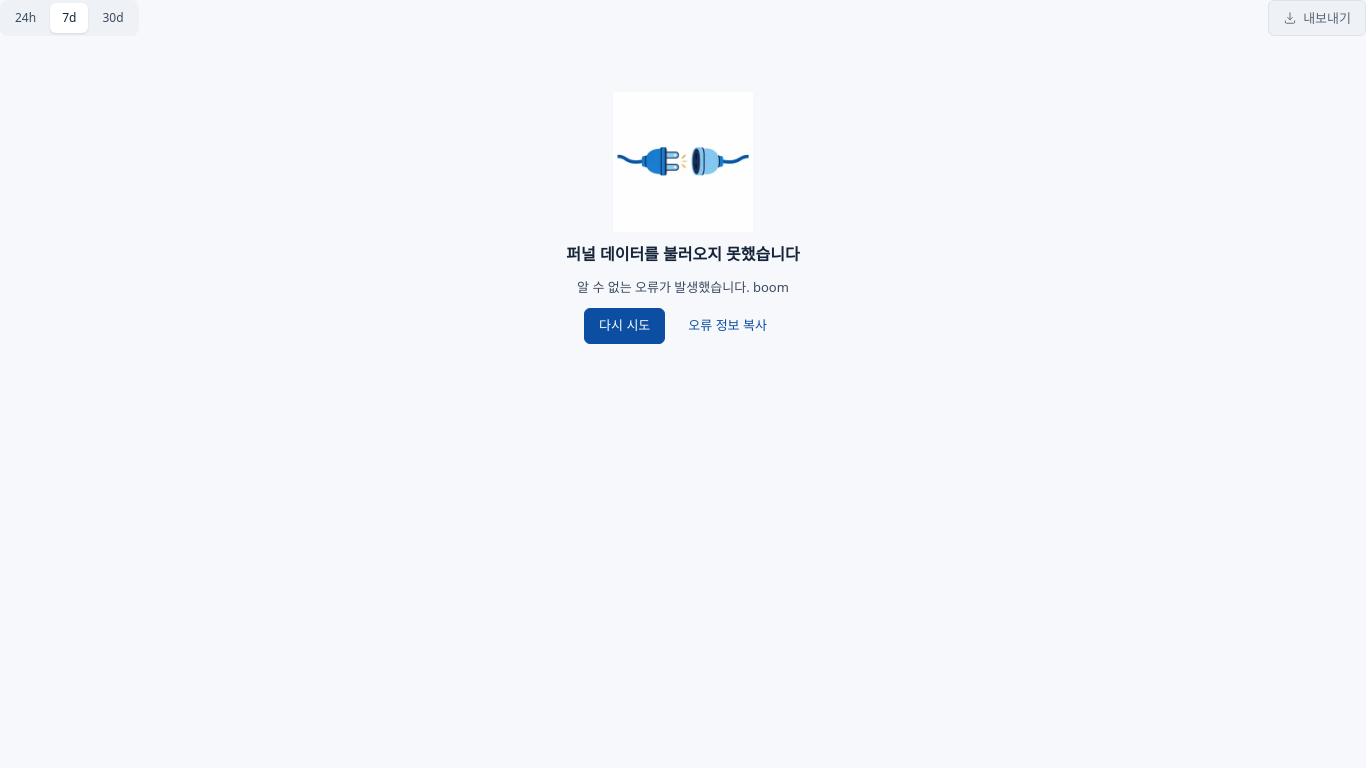
FunnelTab V2 › 조회 실패: 재시도 없는 배너 대신 LoadError — 지표·차트 없음, 내보내기 비활성, 다시 시도로 복구
Expected: the message shows "퍼널 데이터를 불러오지 못했습니다", [566,92,800,344]
Expected: the text "63.0%" is not shown
What coordinates should you click on to do the following:
click the button "다시 시도"
I would click on:
 (625, 326)
Its box is [584,308,665,344].
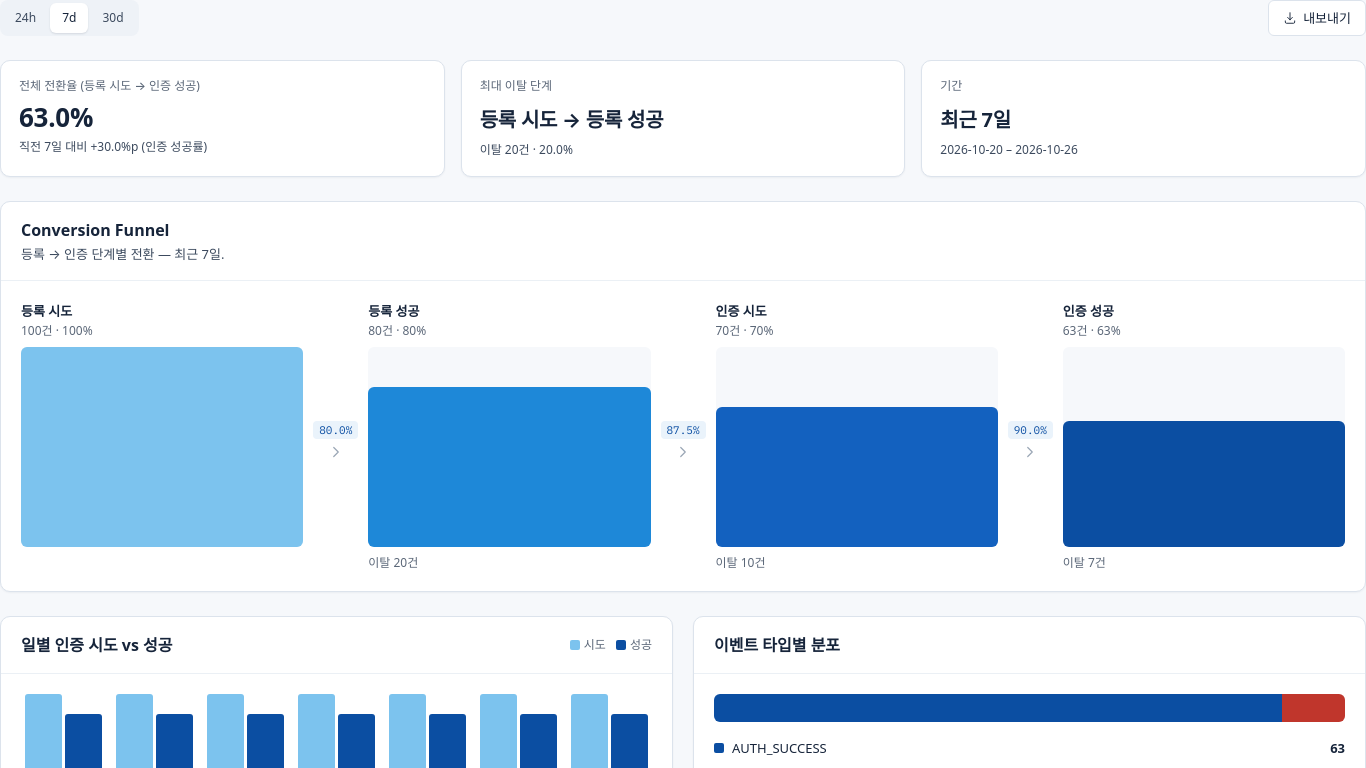
Expected: the text "63.0%" is shown, [19,99,93,135]
